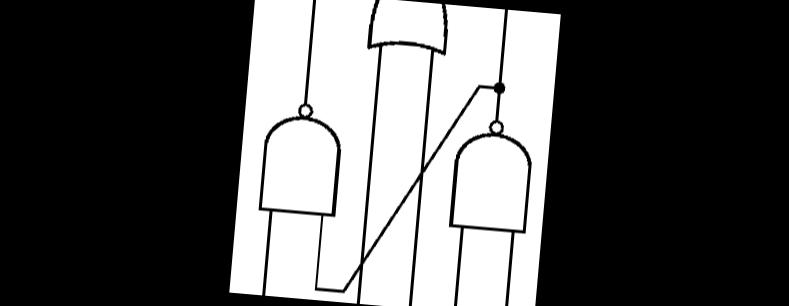nand: (247, 86, 356, 236), (436, 108, 543, 256)
nor: (356, 0, 457, 74)
